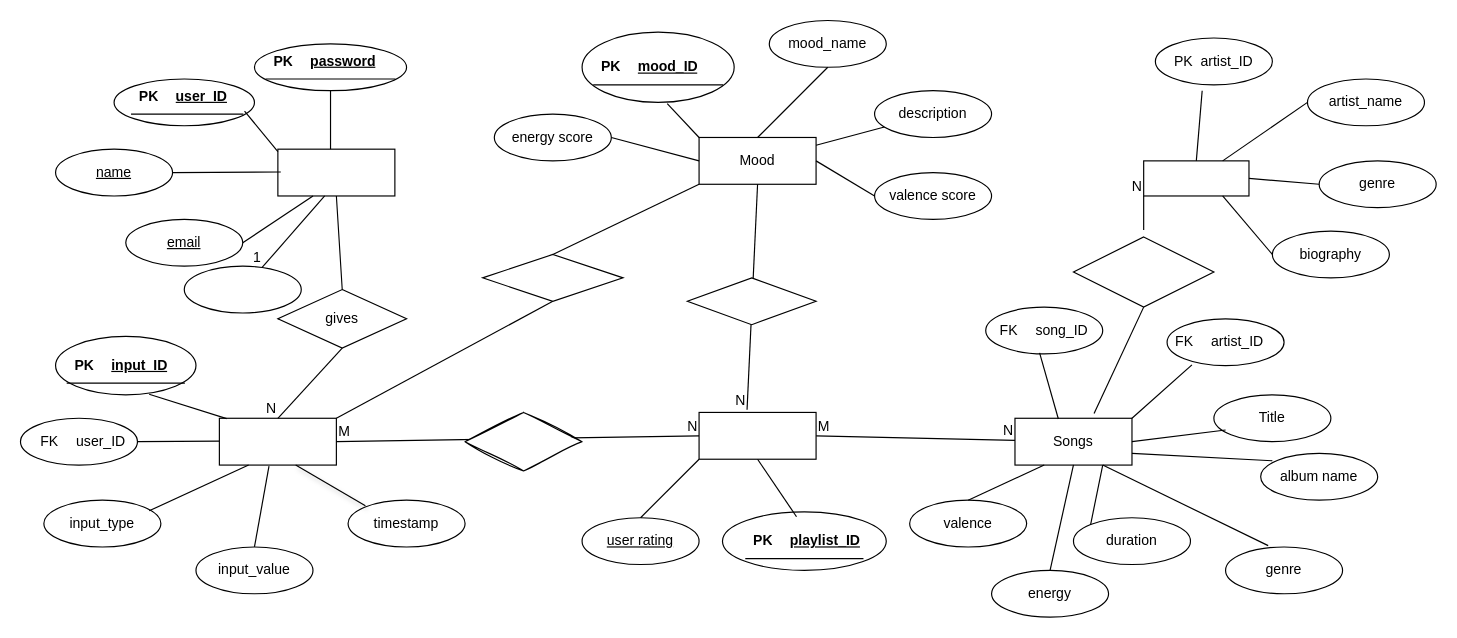
Some shapes in this 1457 by 638 pixel diagram are drawn without their labels. Here are the shapes that lost their labels. From the top down, the centre of each, then its label:
point (336, 172): User
point (1196, 178): artist
point (242, 289): account status
point (552, 277): detects
point (1143, 271): played by
point (751, 301): Tagged_as
point (277, 441): Input
point (523, 441): Generates
point (757, 435): Playlist
